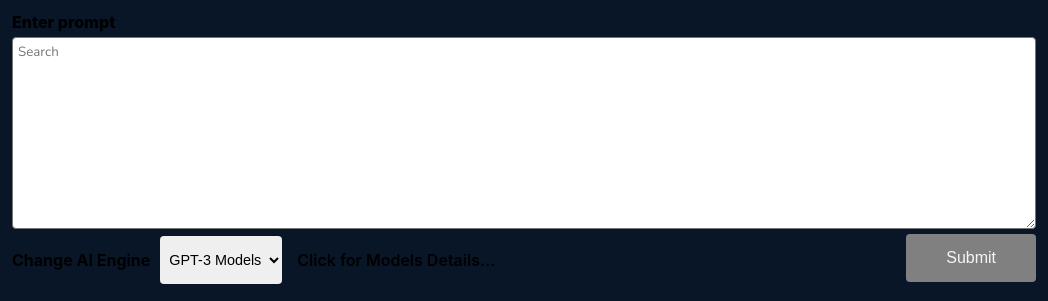
Scenario: SearchBox › Input Value › input typed value and button enabled
Expected: the button "Submit" is disabled, [906,234,1036,282]
Type "Hello" into the text box at (524, 133), box [12,37,1036,229]
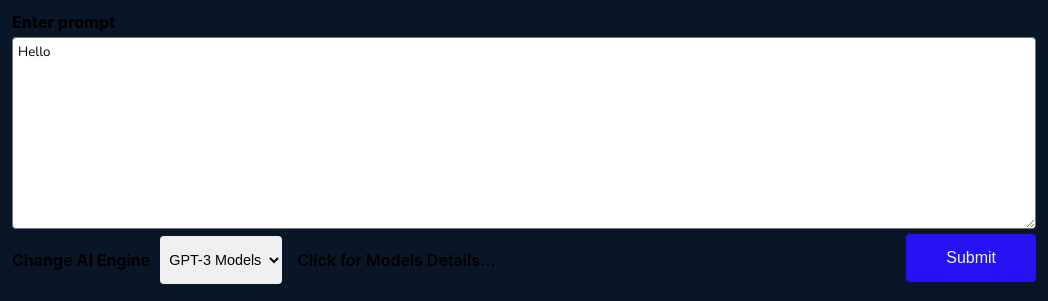
Expected: the button "Submit" is enabled, [906,234,1036,282]
